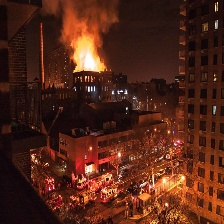fire: (78, 47, 105, 75)
smoke: (44, 1, 131, 49)
